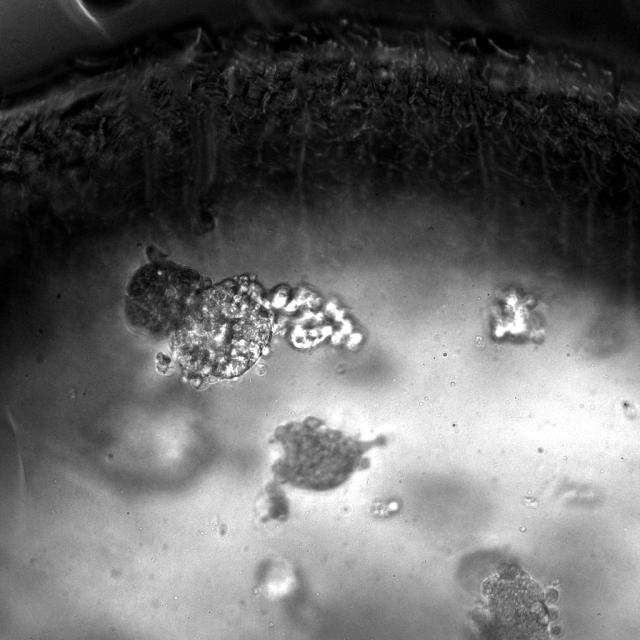organoid: (122, 244, 368, 392), (262, 415, 389, 523), (466, 556, 561, 639), (487, 286, 545, 343), (155, 351, 174, 375)
